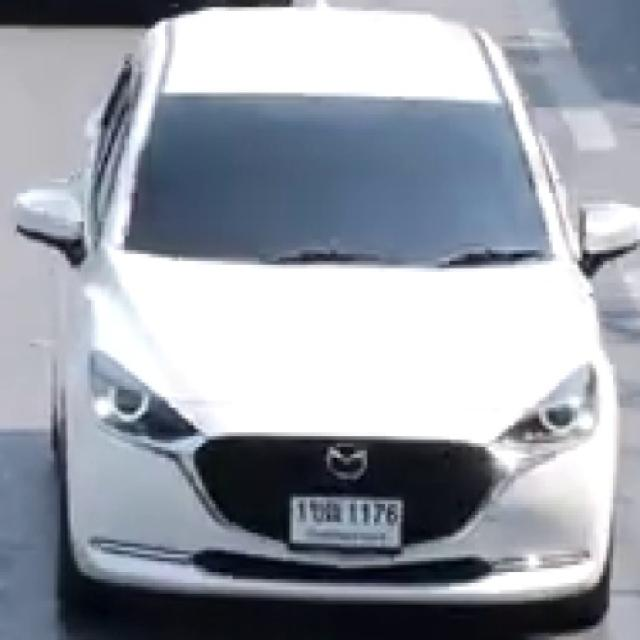plate: (285, 494, 405, 554)
